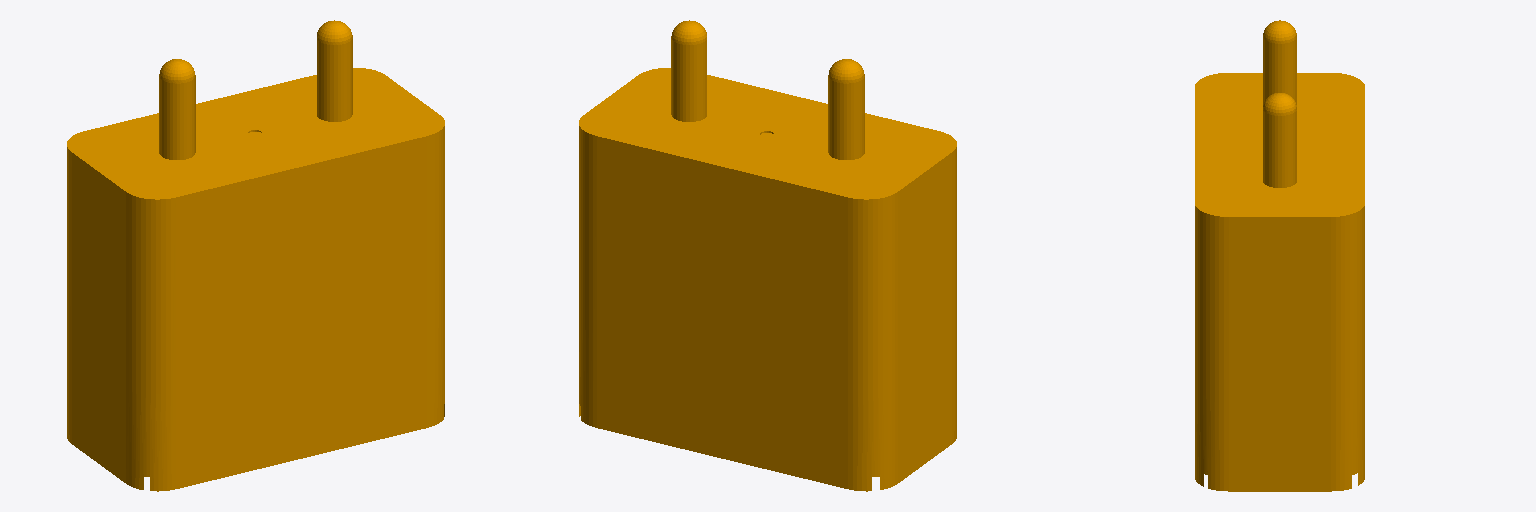
The robot description file, URDF, robot "charger_1_L0.68_T0.63":
<?xml version="1.0" encoding="utf-8"?>
<robot name="charger_1_L0.68_T0.63">
  <link name="charger_1_L0.68_T0.63Link">
    <contact>
      <lateral_friction value="1"/>
    </contact>
    <inertial>
      <origin rpy="0 0 0" xyz="0 0 0"/>
      <mass value="0.0"/>
      <inertia ixx="0" ixy="0" ixz="0" iyy="0" iyz="0" izz="0"/>
    </inertial>
    <visual>
      <origin rpy="0 0 0" xyz="0 0 0"/>
      <geometry>
        <mesh filename="generated_stl/charger/charger_1/charger_1_L0.68_T0.63/charger_1_L0.68_T0.63.stl" scale="0.01 0.01 0.01"/>
      </geometry>
    </visual>
    <collision>
      <origin rpy="0 0 0" xyz="0 0 0"/>
      <geometry>
        <mesh filename="generated_stl/charger/charger_1/charger_1_L0.68_T0.63/charger_1_L0.68_T0.63.stl" scale="0.01 0.01 0.01"/>
      </geometry>
    </collision>
  </link>
</robot>

--- Facts derived from the render (not from the file) ---
Views: 3 orthographic renders of the robot side by side, from view 1: azimuth 30°, elevation 25°; view 2: azimuth 150°, elevation 25°; view 3: azimuth 270°, elevation 25°.
Model charger_1_L0.68_T0.63 with 1 links and 0 joints (none), rooted at charger_1_L0.68_T0.63Link, posed all joints at 0.
Visible links, largest first — view 1: charger_1_L0.68_T0.63Link; view 2: charger_1_L0.68_T0.63Link; view 3: charger_1_L0.68_T0.63Link.
Link boxes in pixels (bbox=[...]): charger_1_L0.68_T0.63Link: bbox=[67, 20, 444, 491]; charger_1_L0.68_T0.63Link: bbox=[579, 20, 956, 491]; charger_1_L0.68_T0.63Link: bbox=[1195, 20, 1364, 491].
Bounding box of the posed robot: 0.0339 × 0.017 × 0.0396 m (x, y, z).
Meshes: 1 distinct files referenced, 1 mesh visuals loaded (1 binary STL).